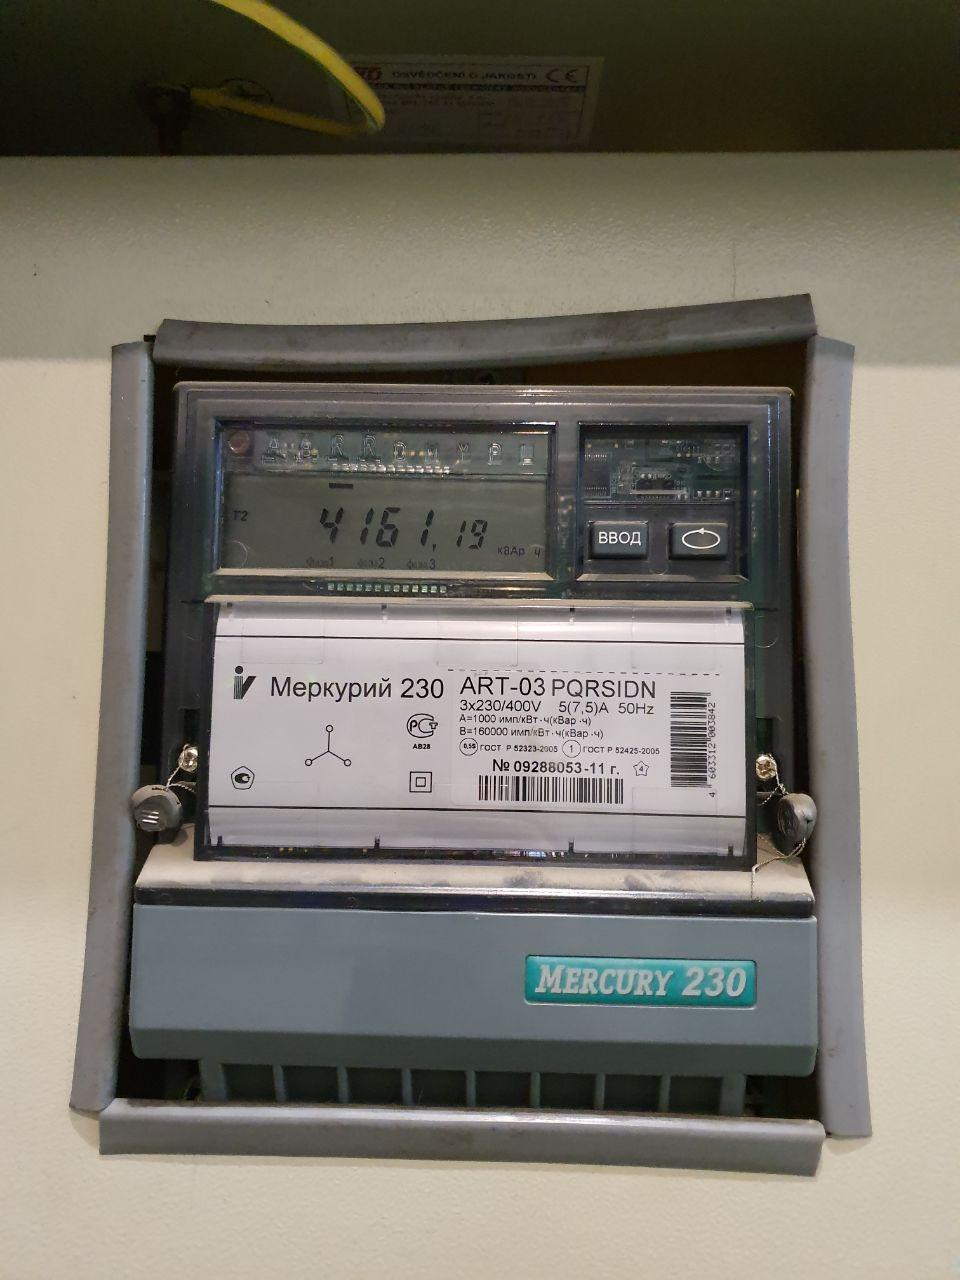counter: (123, 369, 847, 1133)
counter_screen: (210, 465, 559, 585)
